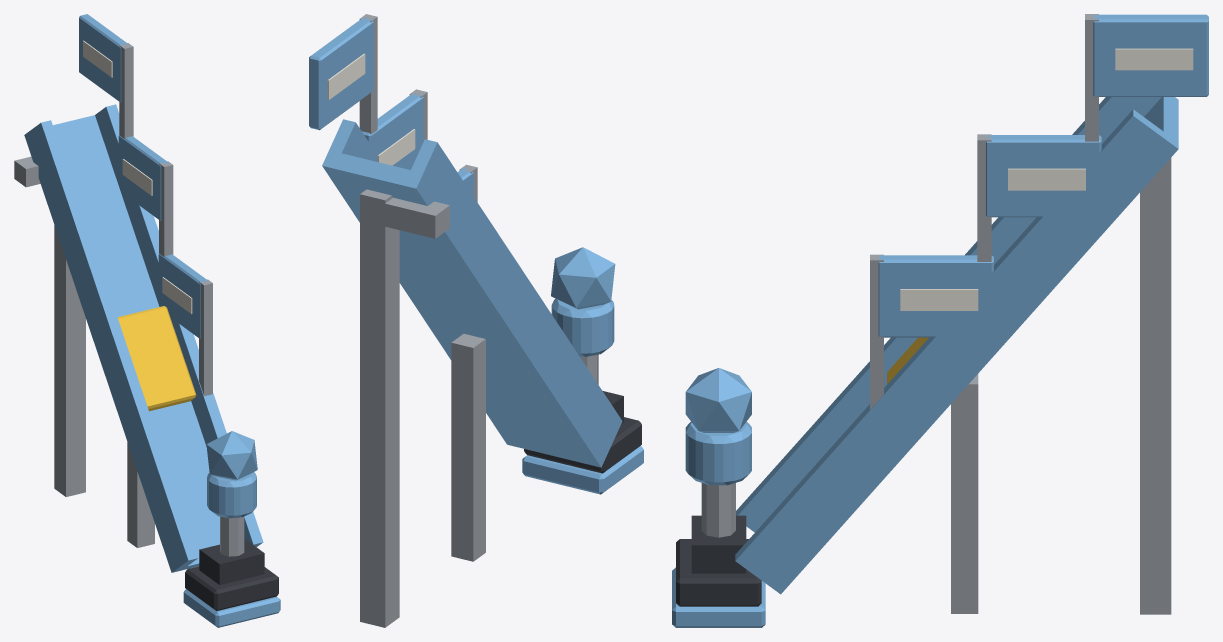
The model's file is delegation_m1_2.glb.
The picture shows the model from 3 angles, left to right: view 1: azimuth 30°, elevation 25°; view 2: azimuth 150°, elevation 25°; view 3: azimuth 270°, elevation 25°; orthographic projection. The views are drawn at different scales.
Visible parts, largest first — view 1: delegation_m1_2_mesh; view 2: delegation_m1_2_mesh; view 3: delegation_m1_2_mesh.
Part boxes in pixels (box(x1,y1,x2,y2)): delegation_m1_2_mesh: box(14, 14, 280, 627); delegation_m1_2_mesh: box(309, 14, 643, 627); delegation_m1_2_mesh: box(672, 14, 1208, 627).
Size of the model in its own units: 0.177 by 0.8666 by 0.6882.
